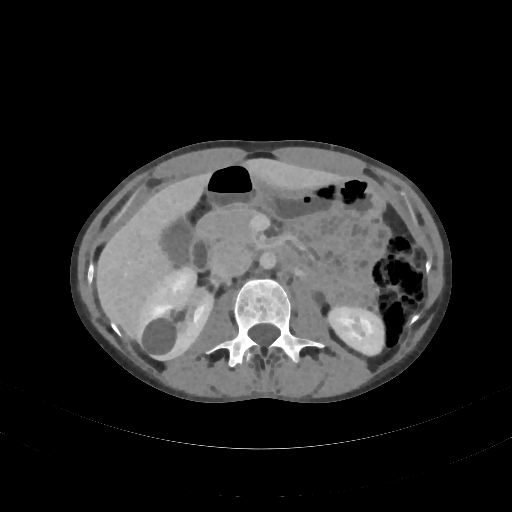Lesion: (139, 314, 181, 362)
